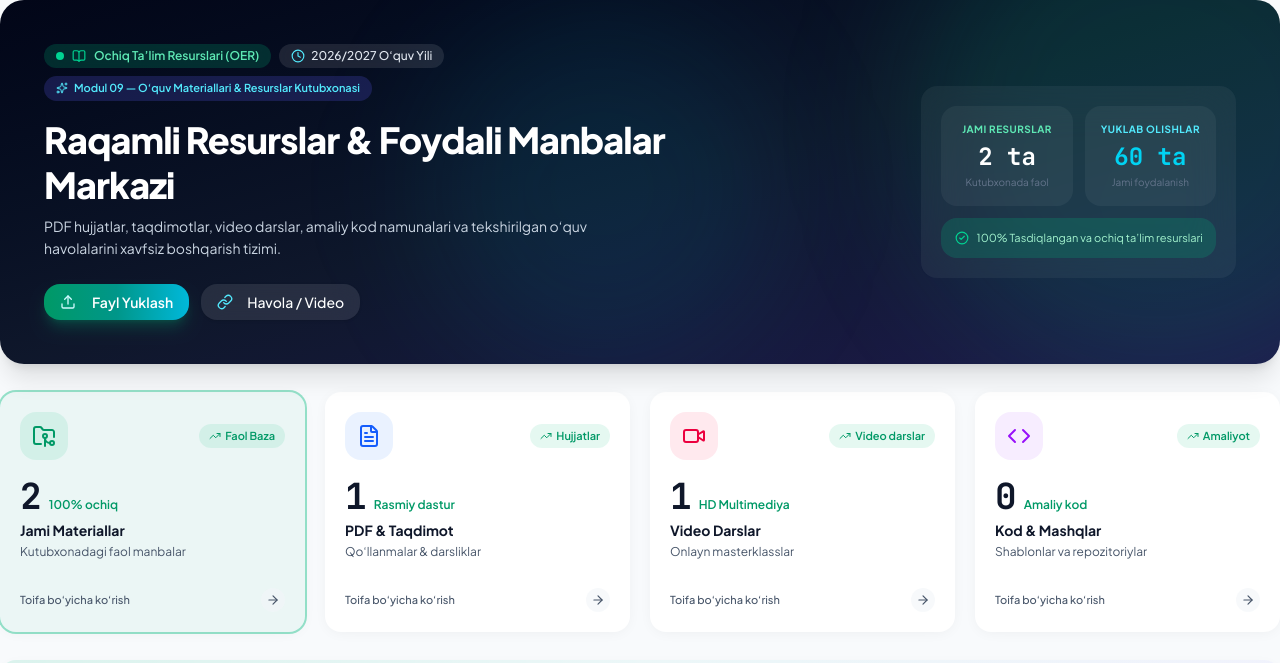
Test case: Modules 08 - 11 Frontend Integration Tests › Module 09: ResourceLibrary › opens file upload modal when clicking "Fayl Yuklash"
The width and height of the screenshot is (1280, 663).
Step 1. Click the button "Fayl Yuklash" → (117, 302), box [44,284,189,320]
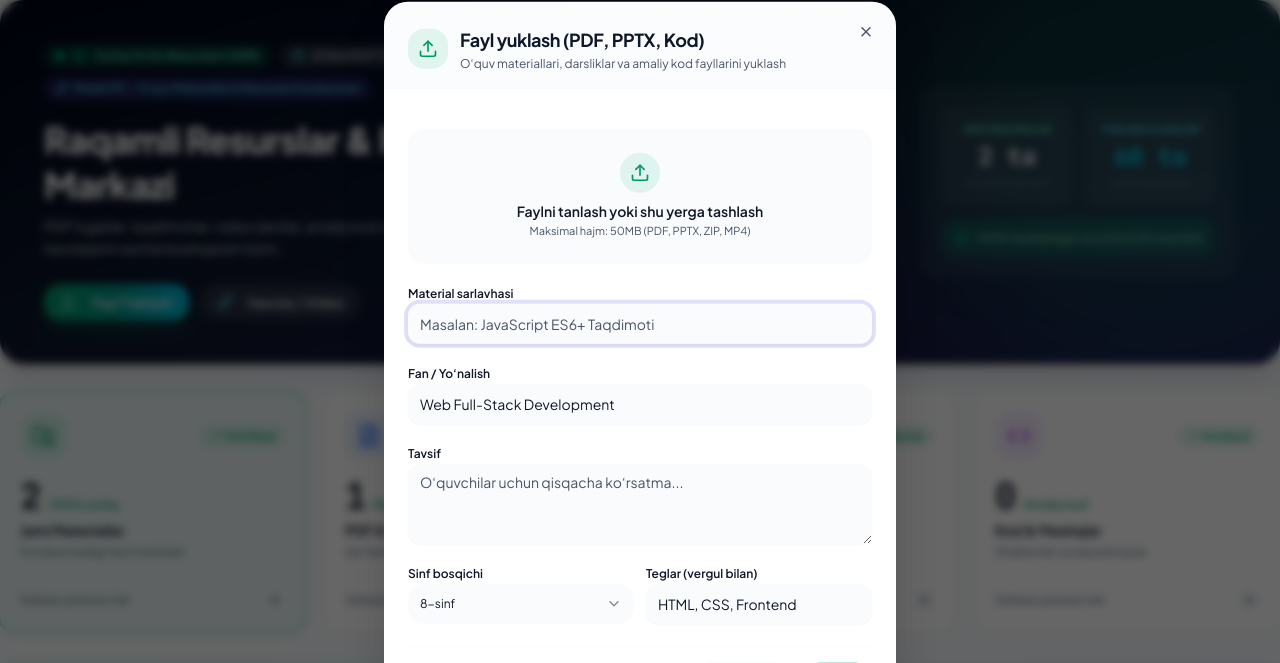
Result: the heading "Fayl yuklash (PDF, PPTX, Kod)" is shown at [460,28,704,51]
Result: the text "Material sarlavhasi" is shown at [408,285,514,300]
